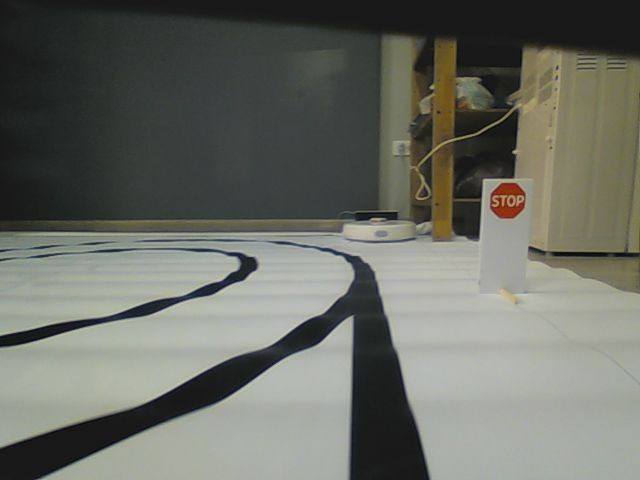Stop: (487, 181, 527, 219)
